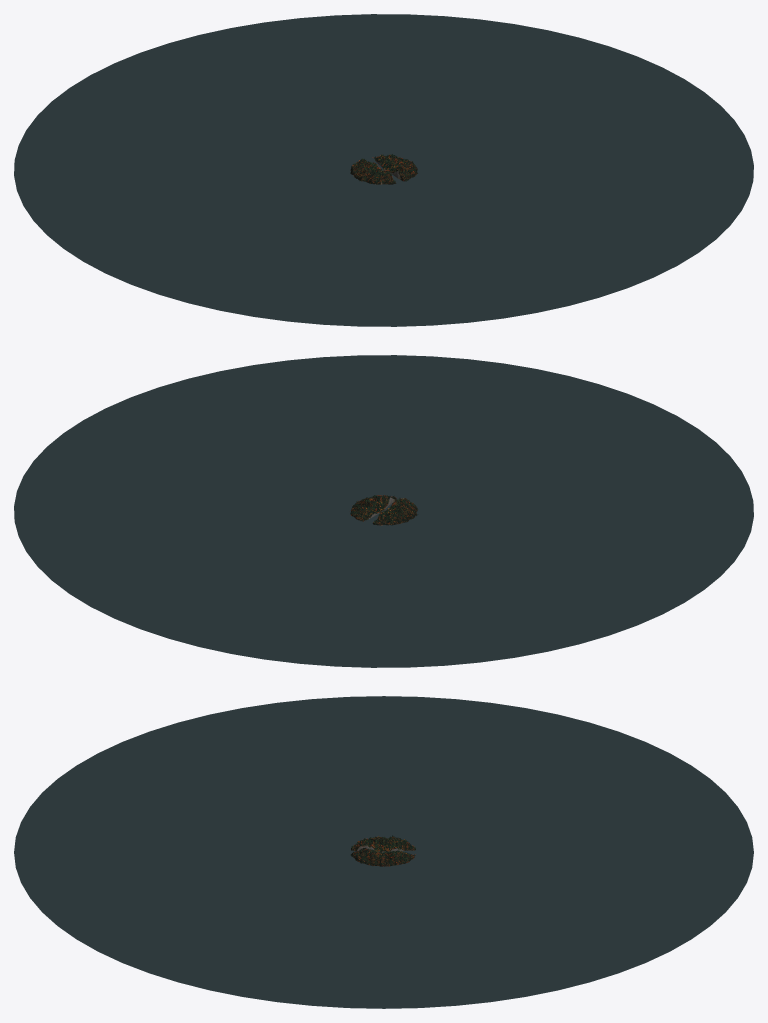
Rendered from backdrop_near_rect_flotsam_autumn.glb.
The picture shows the model from 3 angles, top to bottom: view 1: azimuth 30°, elevation 25°; view 2: azimuth 150°, elevation 25°; view 3: azimuth 270°, elevation 25°; orthographic projection.
Parts seen in each view (by area): view 1: water_S, water_N, water_W, water_E; view 2: water_N, water_S, water_W, water_E; view 3: water_E, water_N, water_W, water_S.
Boxes of the visible parts, <box> form: water_S: <box>288,173,741,326</box>; water_N: <box>26,14,479,170</box>; water_W: <box>14,130,382,321</box>; water_E: <box>384,19,753,210</box>; water_N: <box>26,513,479,667</box>; water_S: <box>288,355,741,510</box>; water_W: <box>393,471,753,662</box>; water_E: <box>14,360,383,551</box>; water_E: <box>123,863,644,1008</box>; water_N: <box>402,742,753,962</box>; water_W: <box>123,696,644,852</box>; water_S: <box>14,742,383,962</box>.
Bounding box in the file's own units: 6000 × 173 × 6000.
5 materials, 3 textured.
